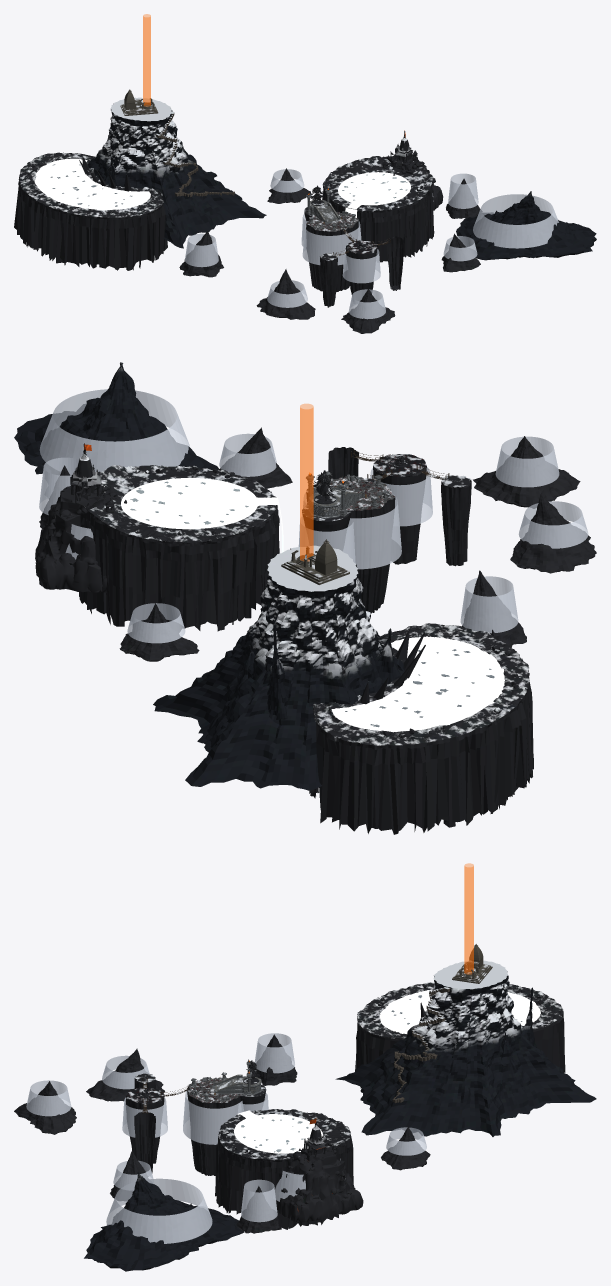
Rendered from charnel_ridge.glb.
The picture shows the model from 3 angles, top to bottom: view 1: azimuth 30°, elevation 25°; view 2: azimuth 150°, elevation 25°; view 3: azimuth 270°, elevation 25°; orthographic projection. The views are drawn at different scales.
Visible parts, largest first — view 1: Environment_Beacon_Cliff, Lake_RakshasTal_Shore, Environment_Peak_03, Lake_Manasarovar_Shore, Water_RakshasTal, Vista_Mist_Foot_03, Ground_CharnelRidge, Water_Manasarovar, Vista_Pinnacle_06, Terrain_SpawnCrag_SW, Vista_Mist_Collar_1, Vista_Pinnacle_05 (+17 smaller); view 2: Environment_Beacon_Cliff, Lake_RakshasTal_Shore, Lake_Manasarovar_Shore, Environment_Peak_03, Water_RakshasTal, Vista_Shrine_01, Vista_Mist_Foot_03, Water_Manasarovar, Ground_CharnelRidge, Vista_Pinnacle_05, Vista_Pinnacle_06, Terrain_SpawnCrag_SW (+18 smaller); view 3: Environment_Beacon_Cliff, Environment_Peak_03, Lake_Manasarovar_Shore, Vista_Shrine_01, Lake_RakshasTal_Shore, Vista_Mist_Foot_03, Ground_CharnelRidge, Water_Manasarovar, Water_RakshasTal, Vista_Pinnacle_05, Vista_Mist_Collar_1, Vista_Pinnacle_06 (+17 smaller).
Boxes of the visible parts, box(x1,y1,x2,y2) form: Environment_Beacon_Cliff: box(88, 97, 266, 248); Lake_RakshasTal_Shore: box(14, 152, 167, 270); Environment_Peak_03: box(456, 191, 596, 260); Lake_Manasarovar_Shore: box(322, 156, 434, 262); Water_RakshasTal: box(34, 158, 150, 210); Vista_Mist_Foot_03: box(473, 194, 558, 248); Ground_CharnelRidge: box(306, 212, 358, 292); Water_Manasarovar: box(338, 172, 410, 209); Vista_Pinnacle_06: box(256, 269, 315, 319); Terrain_SpawnCrag_SW: box(345, 240, 377, 300); Vista_Mist_Collar_1: box(302, 221, 361, 265); Vista_Pinnacle_05: box(341, 288, 395, 333); Environment_Beacon_Cliff: box(153, 545, 404, 790); Lake_RakshasTal_Shore: box(309, 623, 533, 834); Lake_Manasarovar_Shore: box(79, 465, 279, 632); Environment_Peak_03: box(14, 362, 219, 499); Water_RakshasTal: box(331, 636, 504, 732); Vista_Shrine_01: box(35, 443, 126, 592); Vista_Mist_Foot_03: box(39, 389, 189, 474); Water_Manasarovar: box(121, 478, 278, 529); Ground_CharnelRidge: box(306, 476, 395, 613); Vista_Pinnacle_05: box(473, 436, 580, 508); Vista_Pinnacle_06: box(510, 493, 596, 573); Terrain_SpawnCrag_SW: box(373, 454, 426, 564); Environment_Beacon_Cliff: box(335, 960, 596, 1136); Environment_Peak_03: box(84, 1172, 244, 1271); Lake_Manasarovar_Shore: box(215, 1109, 353, 1230); Vista_Shrine_01: box(275, 1118, 363, 1222); Lake_RakshasTal_Shore: box(355, 982, 565, 1088); Vista_Mist_Foot_03: box(106, 1178, 212, 1243); Ground_CharnelRidge: box(188, 1077, 241, 1175); Water_Manasarovar: box(234, 1110, 322, 1153); Water_RakshasTal: box(379, 989, 540, 1033); Vista_Pinnacle_05: box(14, 1081, 76, 1134); Vista_Mist_Collar_1: box(183, 1091, 243, 1144); Vista_Pinnacle_06: box(86, 1048, 164, 1101).
Size of what is drawn, in the model's own units: 247 by 117 by 242.
Materials: 64 (48 with a texture image).
